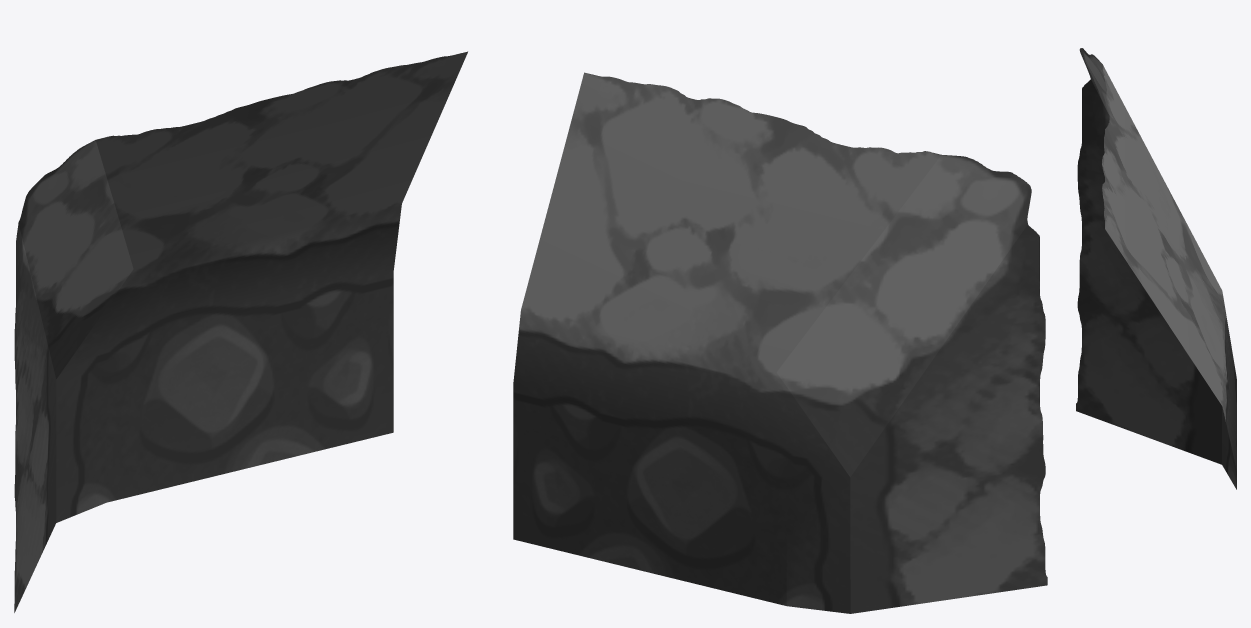
File: Tile12.fbx
3 views of the same model, side by side, from view 1: azimuth 30°, elevation 25°; view 2: azimuth 150°, elevation 25°; view 3: azimuth 270°, elevation 25° (orthographic). The views are drawn at different scales.
Parts seen in each view (by area): view 1: polySurface11; view 2: polySurface11; view 3: polySurface11.
Part boxes in pixels (left/top/right/bottom): polySurface11: left=14, top=51, right=467, bottom=612; polySurface11: left=513, top=72, right=1047, bottom=613; polySurface11: left=1076, top=48, right=1236, bottom=489.
Size of the model in its own units: 2 by 1.97 by 0.6688.
1 material, 1 textured.
